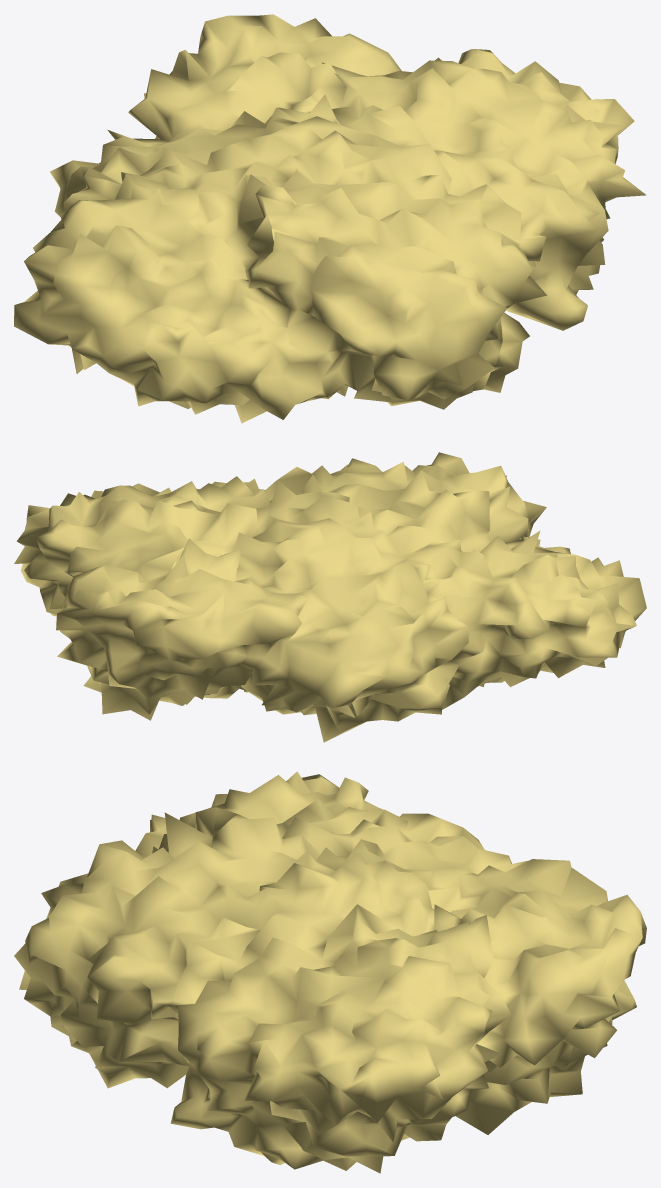
Rendered from Plataforma HojasGaB.fbx.
3 views of the same model, one above another, from view 1: azimuth 30°, elevation 25°; view 2: azimuth 150°, elevation 25°; view 3: azimuth 270°, elevation 25° (orthographic). The views are drawn at different scales.
Visible parts, largest first — view 1: rock.005; view 2: rock.005; view 3: rock.005.
Part boxes in pixels (box(x1,y1,x2,y2)): rock.005: box(14, 14, 646, 423); rock.005: box(14, 452, 646, 742); rock.005: box(14, 771, 646, 1173).
Bounding box in the file's own units: 778 × 891 × 283.
